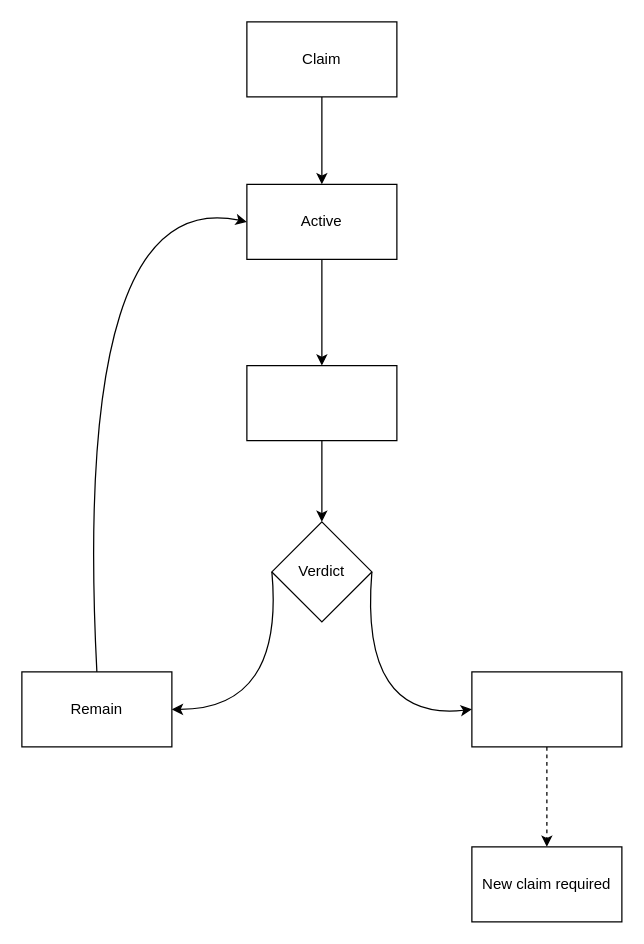
The diagram is 644 pixels wide and 944 high, and some of its shapes have lost their labels. Here are the shapes that lost their labels. From the top down, the centre of each, then its label:
point 321,402: Dispute
point 546,709: Revoke
